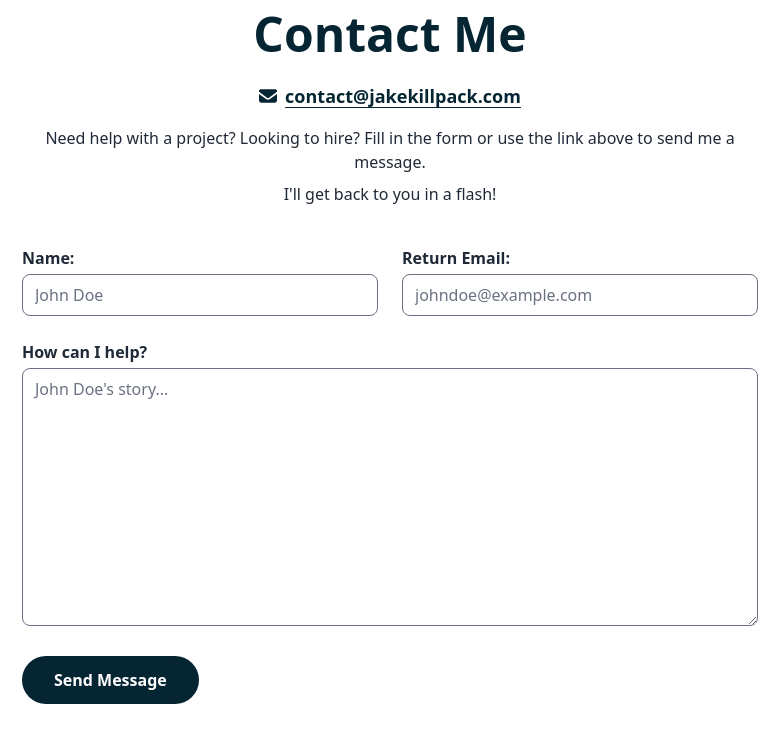
Test case: ContactMe › points to the email address when the message could not be sent
This screenshot has width=781, height=731.
Type "Ada Lovelace" into the field labelled "Name:". click: (200, 295)
box: left=22, top=274, right=378, bottom=316
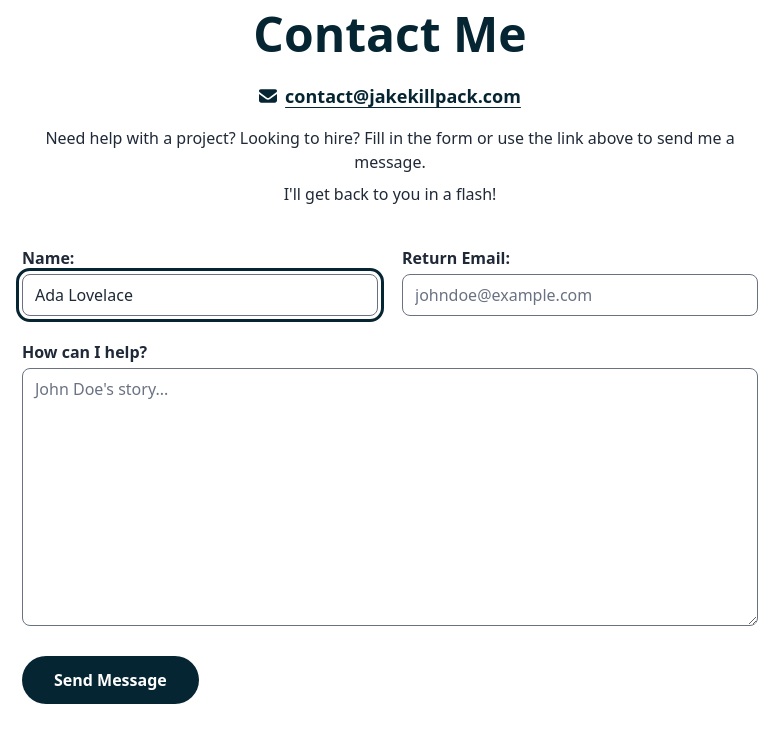
Type "ada@example.com" into the field labelled "Return Email:". click: (580, 295)
box: left=402, top=274, right=758, bottom=316
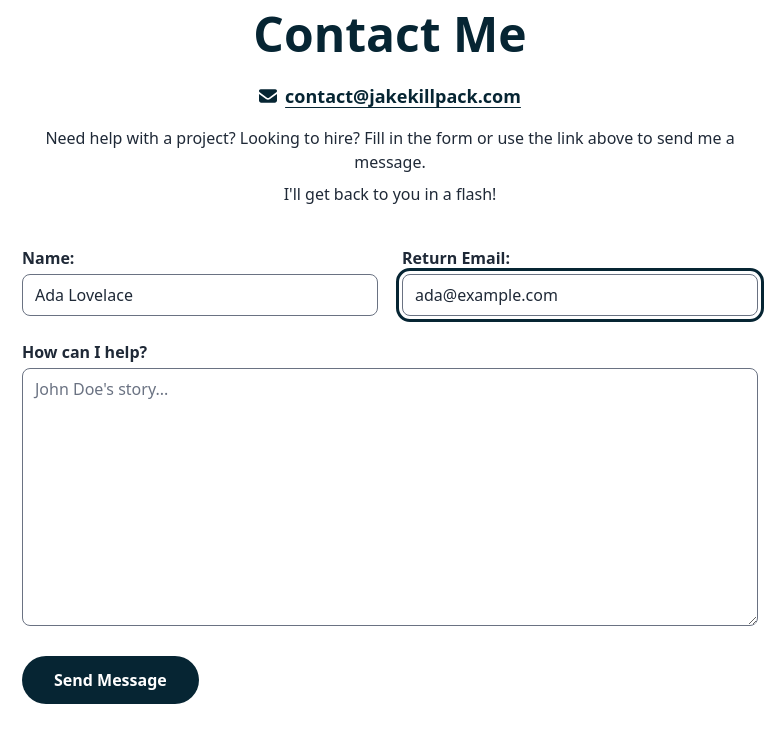
Type "Hello there" into the text box labelled "How can I help?". click: (390, 497)
box: left=22, top=368, right=758, bottom=626
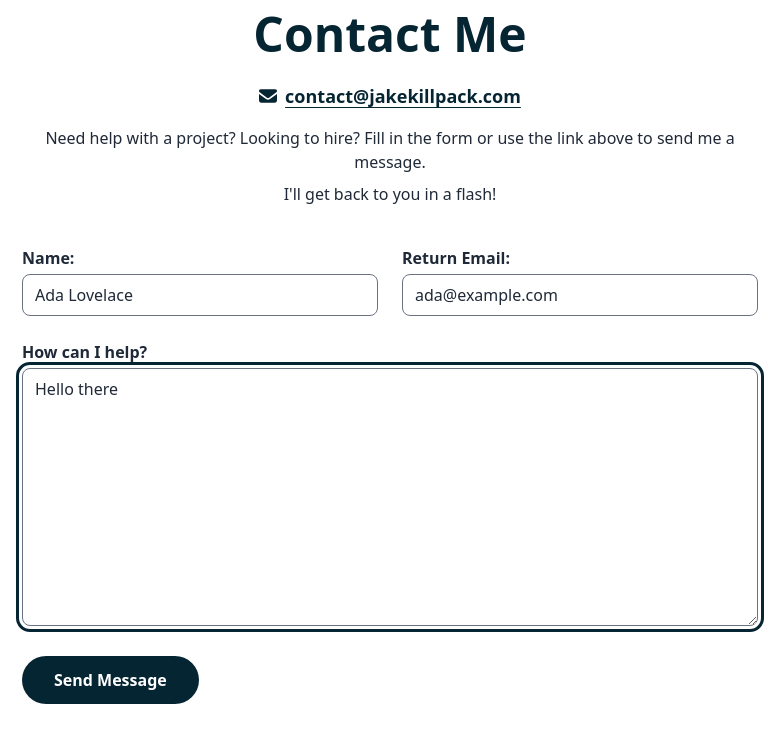
Click the button "Send Message". click: (110, 680)
box: left=22, top=656, right=199, bottom=704
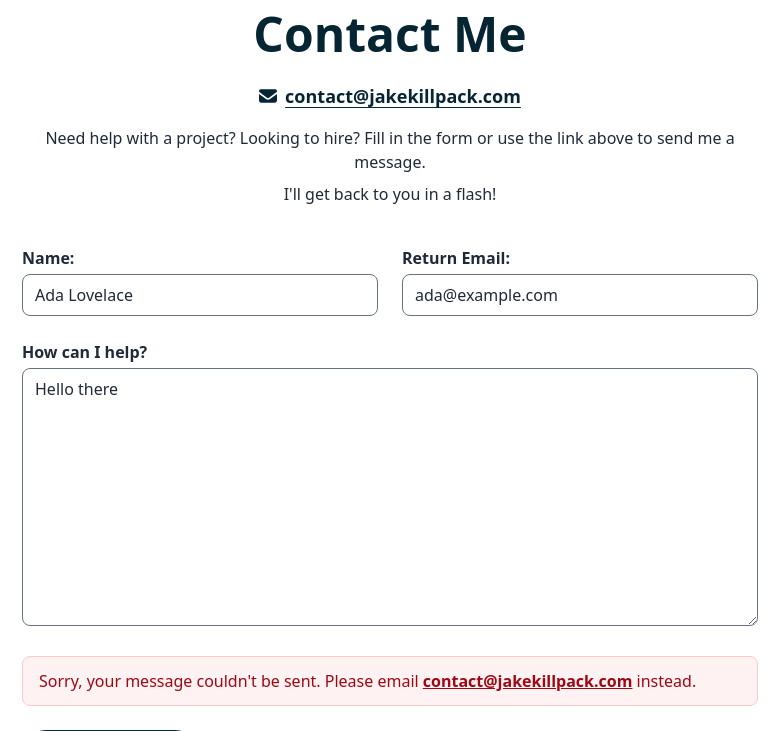
Now the message shows "Sorry, your message couldn't be sent. Please email contact@jakekillpack.com instead.", box left=22, top=656, right=758, bottom=706
